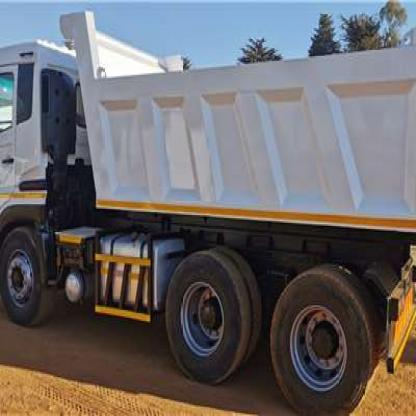dump_truck: (0, 0, 415, 410)
